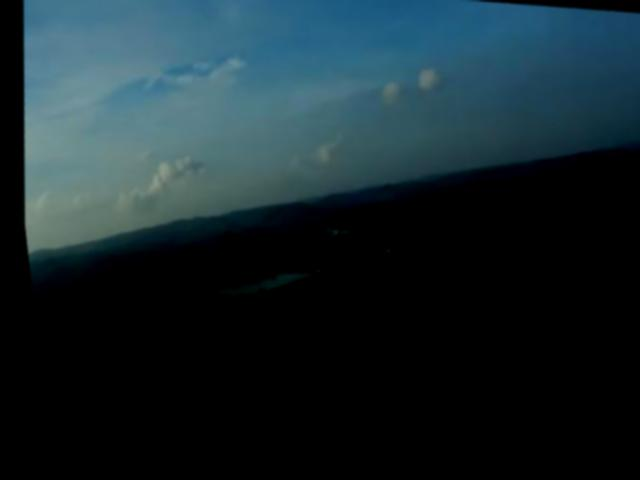iha: (320, 230, 344, 240)
